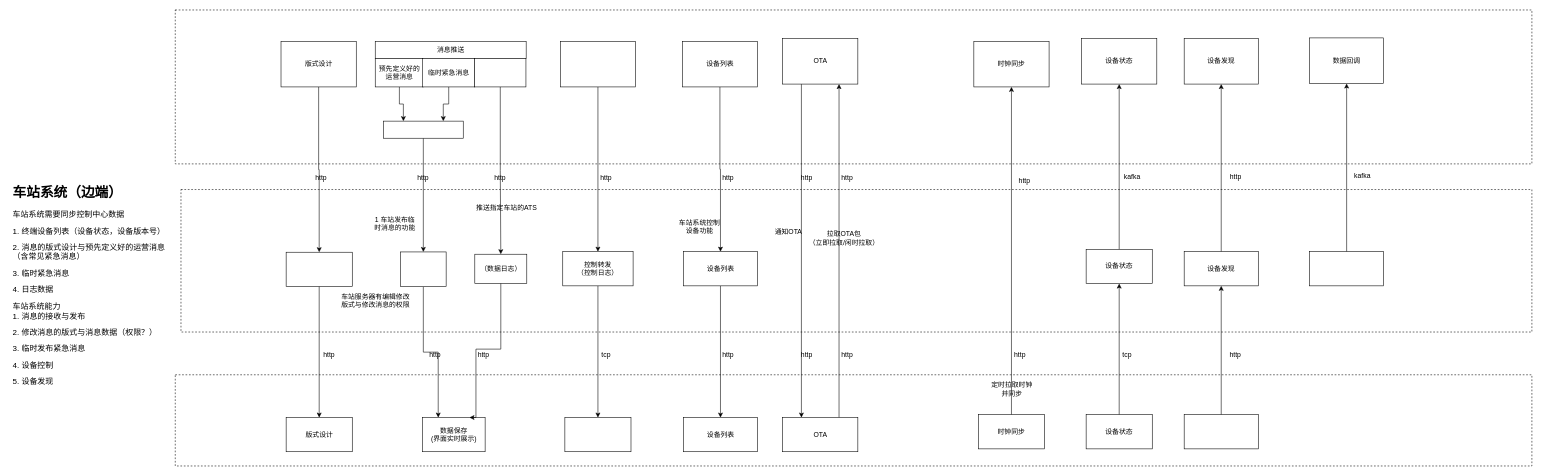
The diagram is 1542 pixels wide and 476 high, and some of its shapes have lost their labels. The shapes that lost their labels are listed below. From the top down, each one's box as (x1, y1, x2, y2) in pixels, then its label:
(474, 58, 526, 87): 实时信息ATS
(560, 41, 636, 87): 设备控制
(175, 9, 1532, 164): 控制中心
(383, 121, 463, 138): 消息审核
(286, 252, 352, 286): 版式设计 （db数据保存）
(400, 251, 446, 287): 信息转发 （数据保存，数据日志）
(180, 189, 1532, 332): 车站系统（边端）
(1309, 251, 1384, 286): 发布信息回调功能
(564, 417, 631, 452): 终端控制
(175, 374, 1532, 466): 终端设备
(1184, 414, 1258, 449): 新增设备
